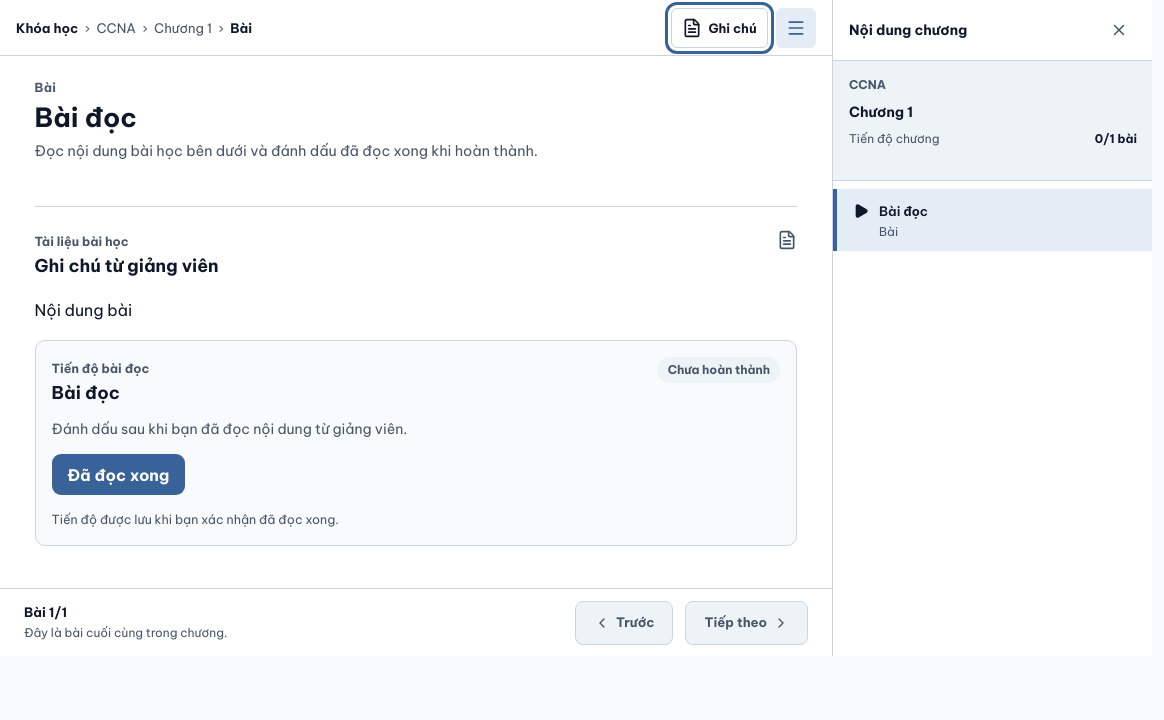
Test: desktop curriculum toggles after notes, stays mounted and returns focus on collapse
Expected: the 1st heading "Bài đọc" is shown, [34,101,137,134]
Press Tab
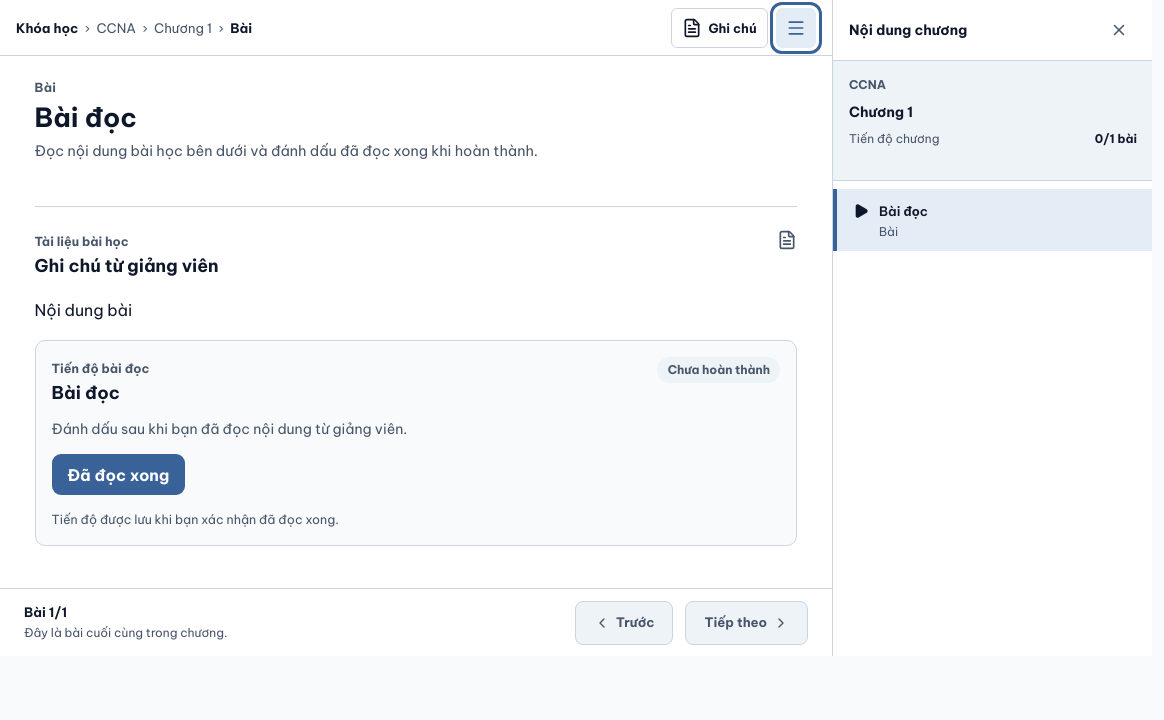
Click the button named "Thu gọn nội dung chương" at (1119, 30), box [1101,12,1137,48]
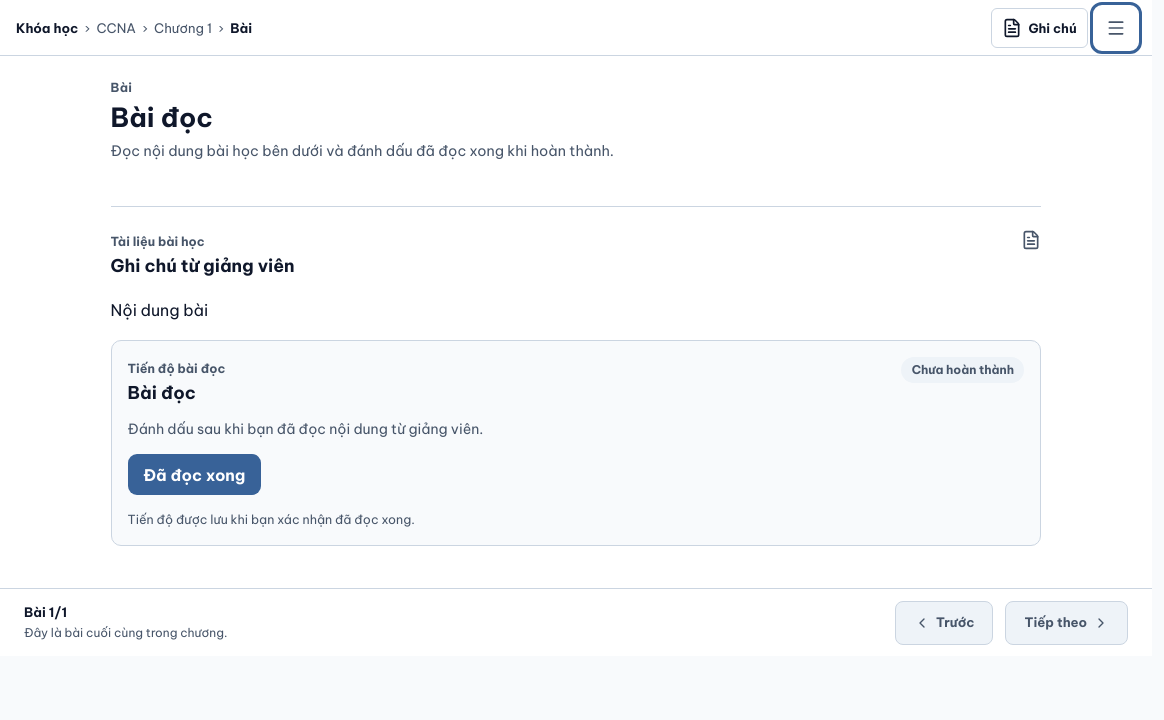
Expected: the button named "Mở hoặc đóng nội dung chương" is collapsed
Expected: the heading "Nội dung chương" is gone
Click the button named "Mở hoặc đóng nội dung chương" at (1116, 28), box [1096,8,1136,48]
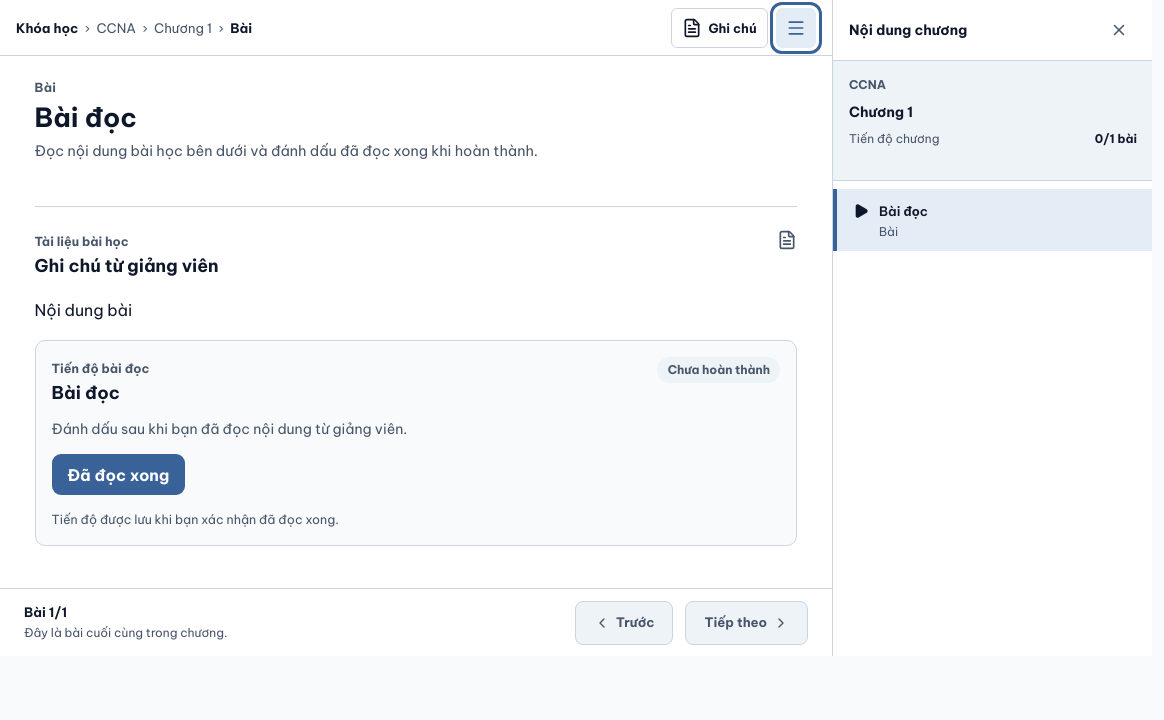
Click the button named "Mở hoặc đóng nội dung chương" at (796, 28), box [776,8,816,48]
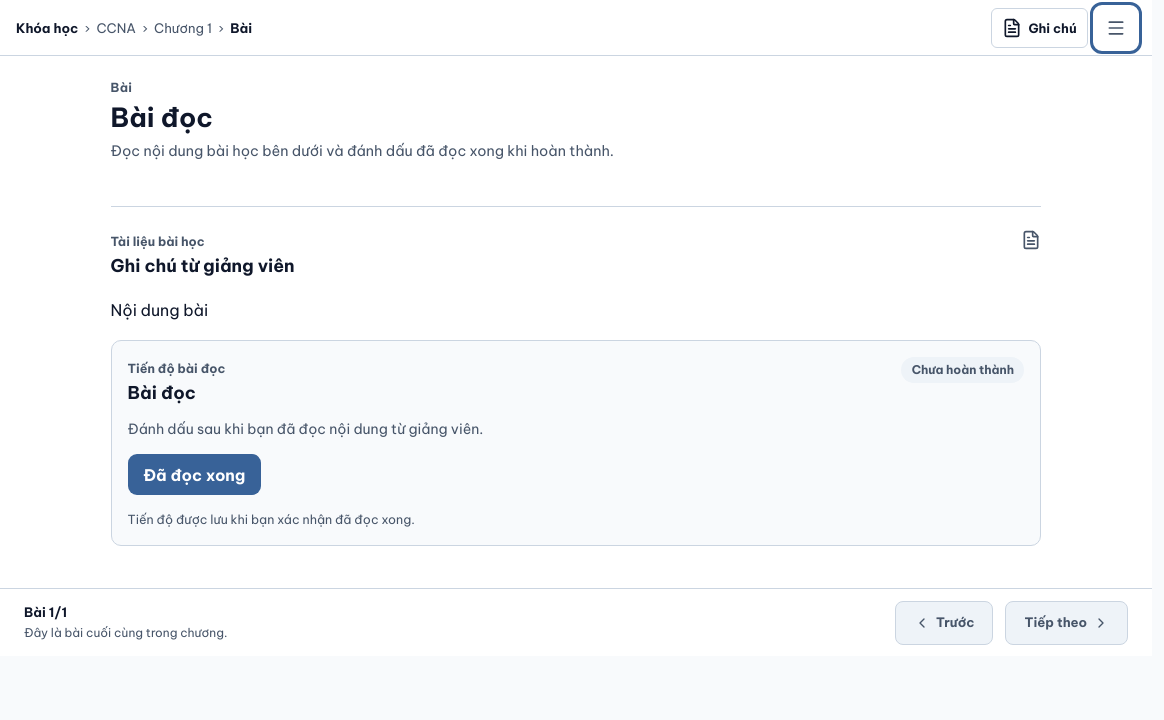
Click the button named "Mở hoặc đóng nội dung chương" at (1116, 28), box [1096,8,1136,48]
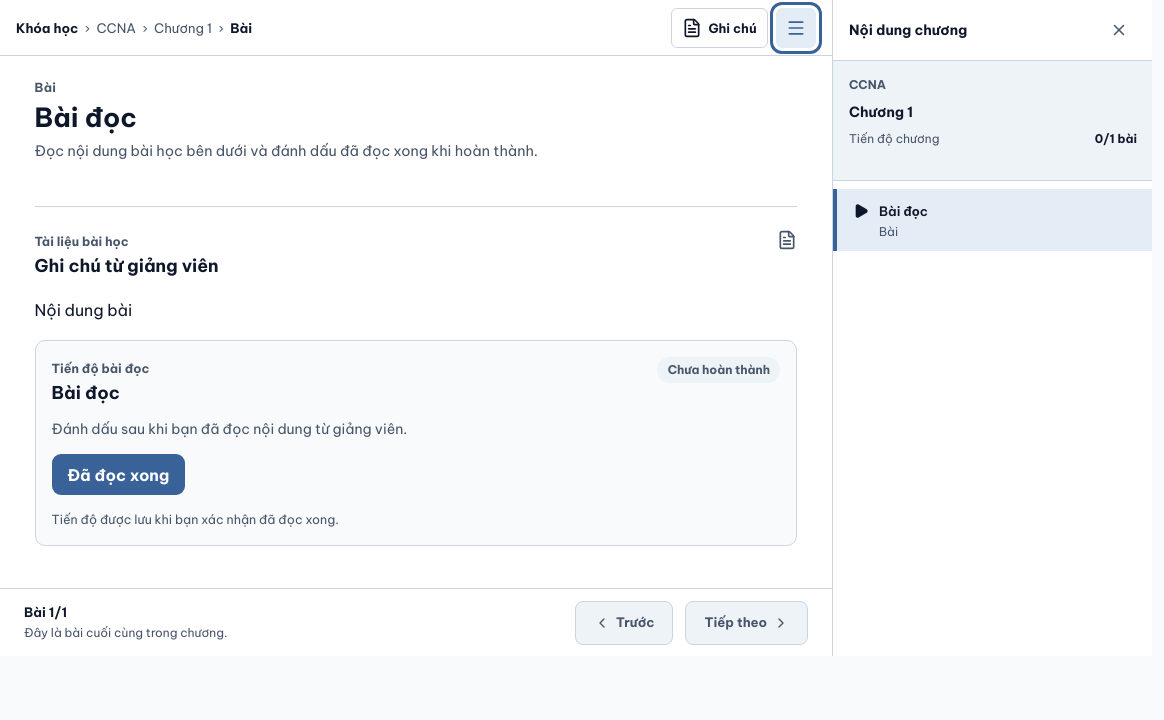
Expected: the button named "Mở hoặc đóng nội dung chương" is expanded, [776,8,816,48]
